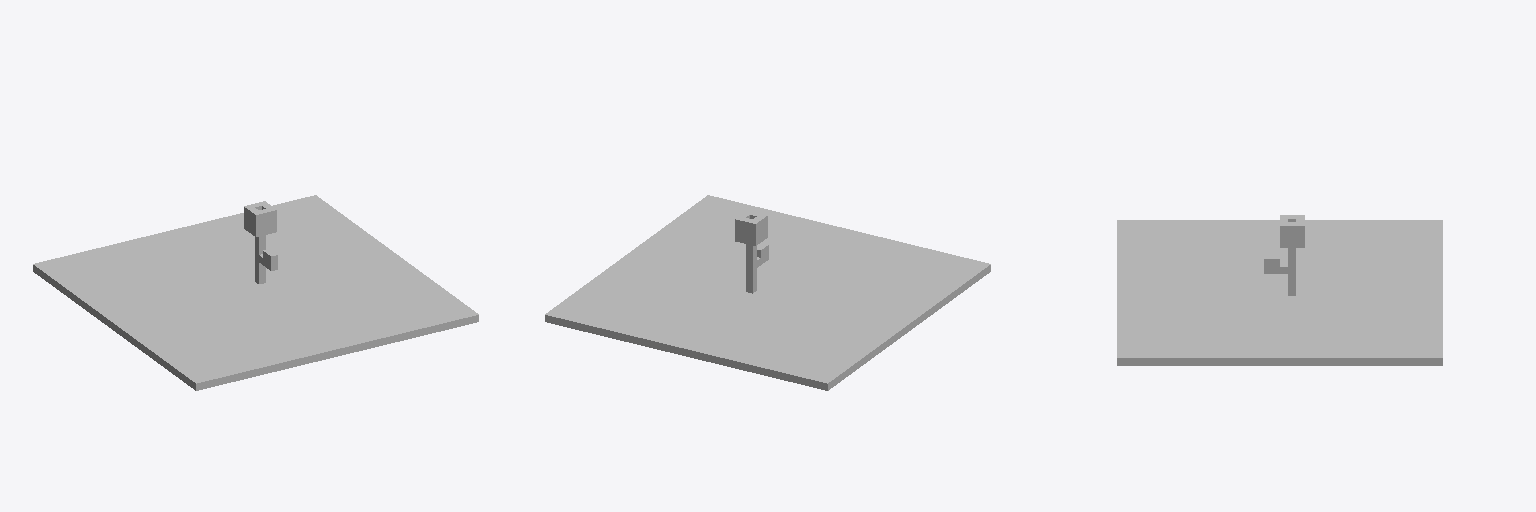
Rendered from flor azul.obj.
3 renders of one model, left to right at view 1: azimuth 30°, elevation 25°; view 2: azimuth 150°, elevation 25°; view 3: azimuth 270°, elevation 25°, orthographic.
Parts seen in each view (by area): view 1: object 1; view 2: object 1; view 3: object 1.
Part boxes in pixels (bbox=[...]): object 1: bbox=[33, 195, 478, 390]; object 1: bbox=[545, 195, 990, 390]; object 1: bbox=[1117, 215, 1442, 365].
Bounding box in the file's own units: 4 × 1.1 × 4.